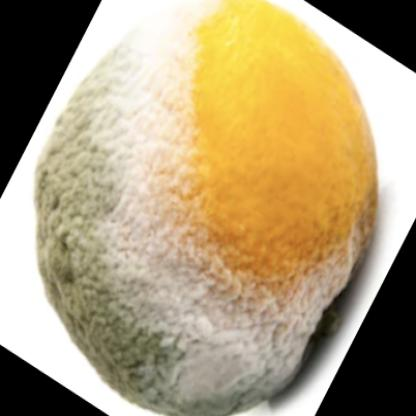rotten: (37, 2, 379, 416)
